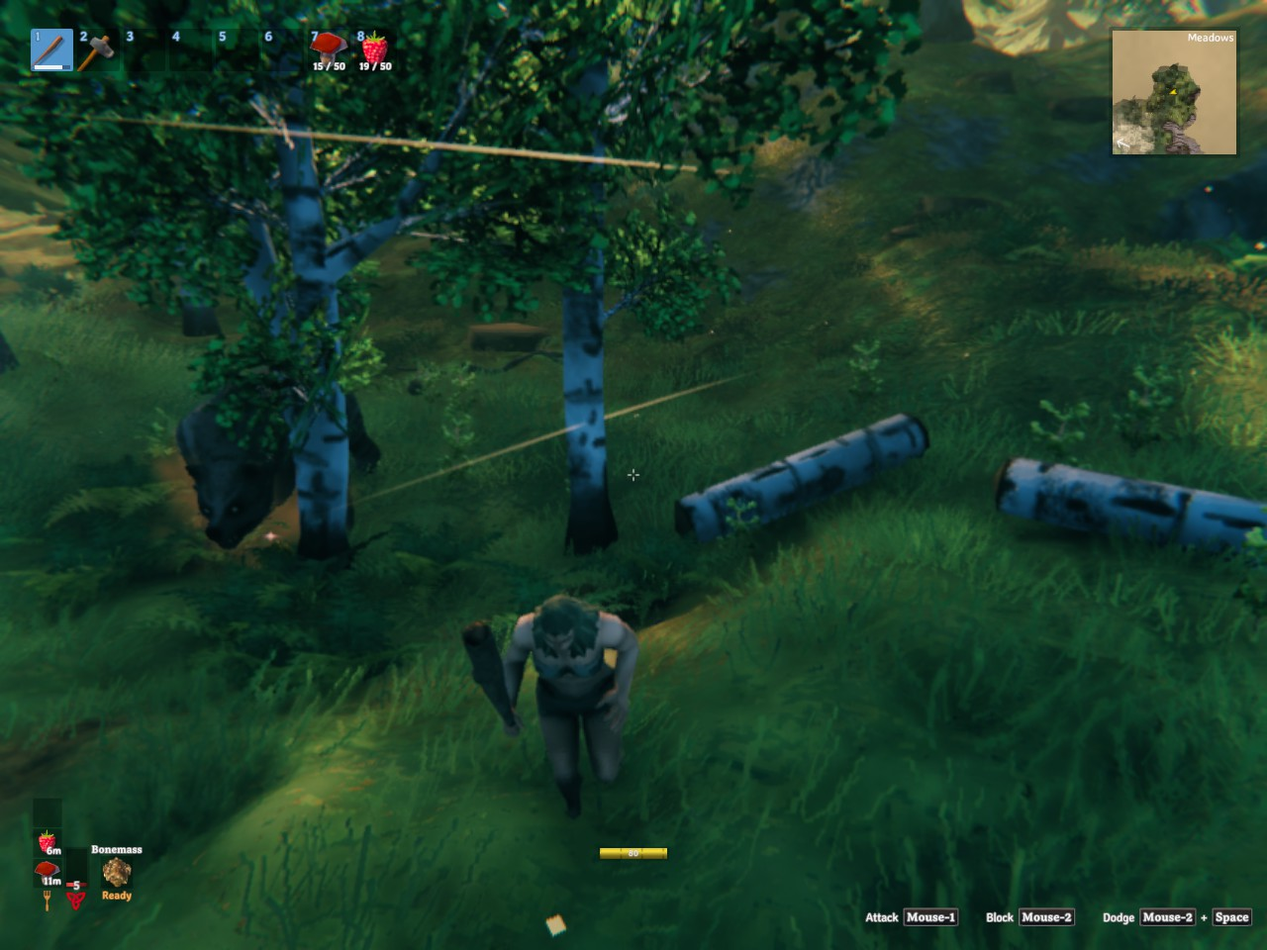Bear: (177, 399, 293, 548), (349, 396, 379, 467)
